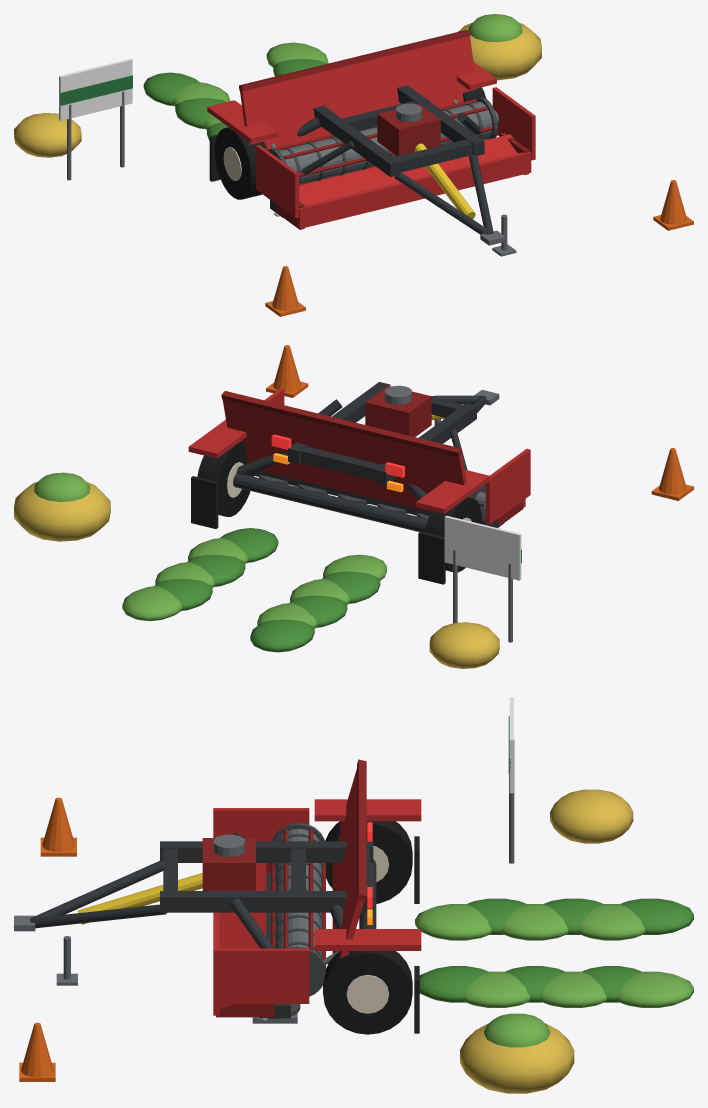
Rendered from mower_conditioner.glb.
The picture shows the model from 3 angles, top to bottom: view 1: azimuth 30°, elevation 25°; view 2: azimuth 150°, elevation 25°; view 3: azimuth 270°, elevation 25°; orthographic projection. The views are drawn at different scales.
Parts seen in each view (by area): view 1: CutterBar, MowerBody, FieldProps, ConditionerRoller; view 2: FieldProps, MowerBody, CutterBar; view 3: MowerBody, FieldProps, CutterBar, ConditionerRoller.
Part boxes in pixels (<box>): CutterBar: <box>239,30,531,229</box>; MowerBody: <box>207,62,535,256</box>; FieldProps: <box>14,14,693,316</box>; ConditionerRoller: <box>267,97,498,185</box>; FieldProps: <box>14,345,693,668</box>; MowerBody: <box>188,382,530,584</box>; CutterBar: <box>221,391,525,528</box>; MowerBody: <box>14,799,421,1034</box>; FieldProps: <box>19,697,693,1093</box>; CutterBar: <box>213,759,366,1023</box>; ConditionerRoller: <box>271,822,325,996</box>.
Bounding box in the file's own units: 6.4 × 1.42 × 6.38.
